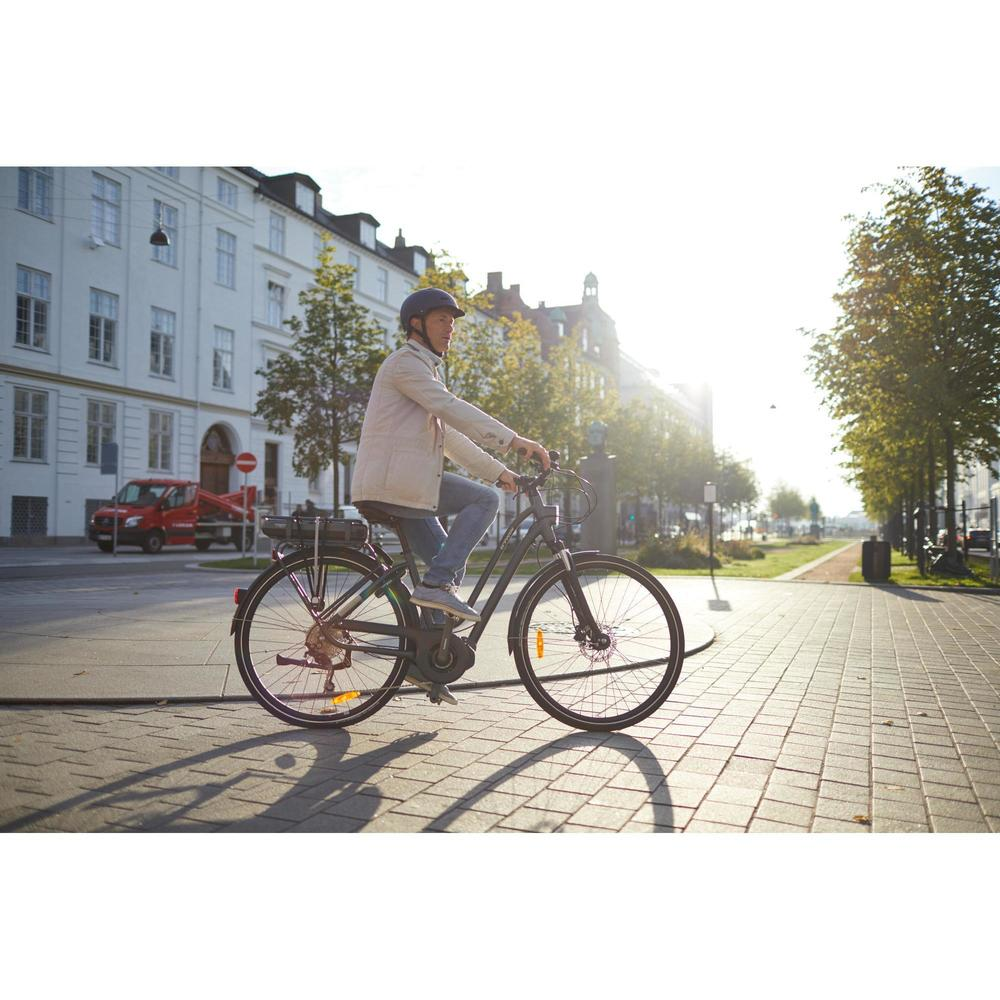UrbanBike: (231, 485, 692, 727)
